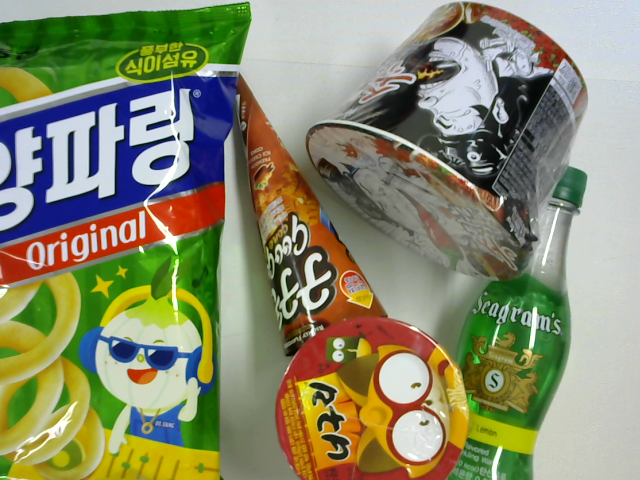GooGoo_Cone_CVS: (232, 67, 391, 359)
HeJangsock: (308, 1, 590, 281)
Oninon_Ring: (1, 1, 254, 480)
Raccoon: (276, 317, 469, 480)
Seagram_Lemon_Carbonated_Water: (448, 167, 587, 480)
